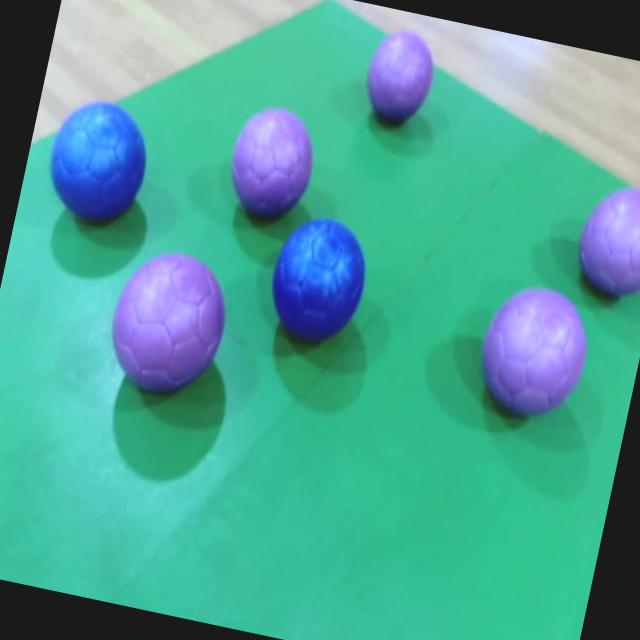blue_ball: (262, 211, 376, 351), (40, 99, 156, 232)
purple_ball: (98, 239, 238, 402), (469, 274, 600, 427), (223, 102, 321, 224), (358, 22, 442, 133), (570, 175, 640, 306)
